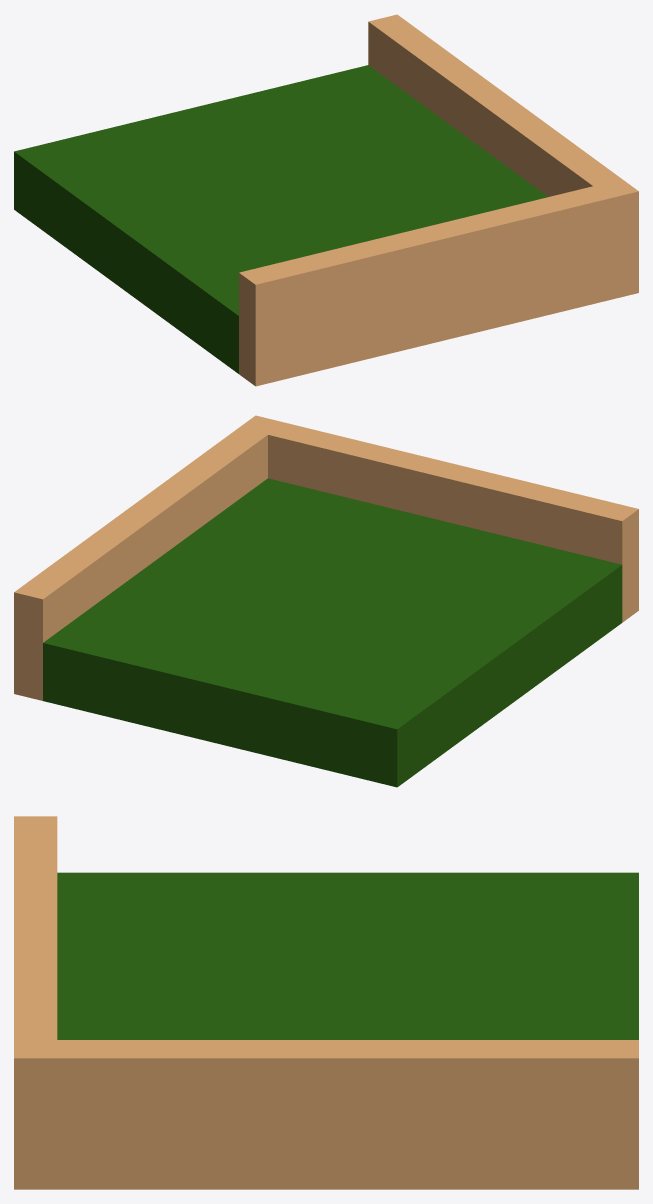
Rendered from Lego3.fbx.
3 views of the same model, one above another, from view 1: azimuth 30°, elevation 25°; view 2: azimuth 150°, elevation 25°; view 3: azimuth 270°, elevation 25° (orthographic). The views are drawn at different scales.
Parts seen in each view (by area): view 1: Cube.002, Cube.010; view 2: Cube.002, Cube.010; view 3: Cube.010, Cube.002.
Part boxes in pixels (x1,y1,x2,y2): Cube.002: (14,65,547,373); Cube.010: (239,14,638,386); Cube.002: (43,478,622,787); Cube.010: (14,415,638,700); Cube.010: (14,816,638,1189); Cube.002: (57,872,638,1039).
Bounding box in the file's own units: 166 × 41.99 × 181.
